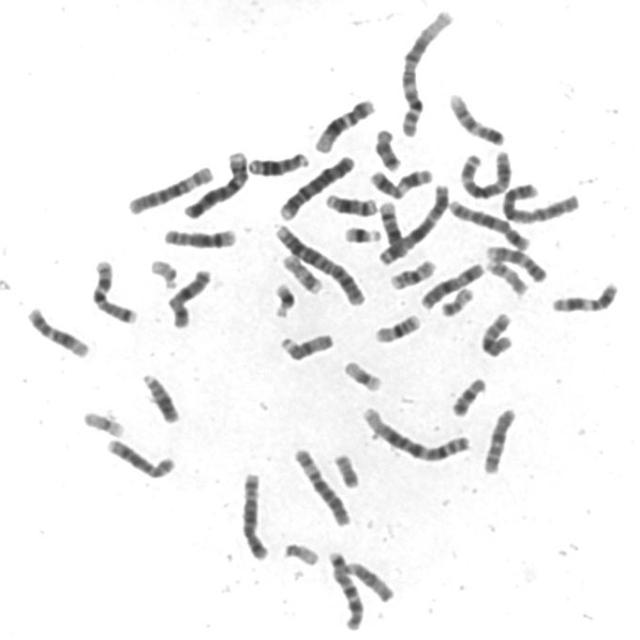A1: (394, 4, 456, 140), (357, 401, 473, 464)
A2: (269, 218, 368, 307), (496, 178, 582, 225)
A3: (374, 178, 452, 266), (454, 144, 514, 200)
B4: (274, 148, 357, 222), (179, 145, 250, 220)
B5: (443, 193, 532, 251), (234, 466, 271, 562)
C10: (477, 402, 518, 476), (475, 308, 515, 359)
C11: (546, 276, 620, 314), (364, 162, 434, 200)
C12: (309, 92, 378, 154), (21, 300, 91, 359)
C6: (288, 442, 352, 528), (123, 160, 215, 216)
C7: (86, 253, 140, 326), (322, 546, 366, 631)
C8: (100, 432, 177, 480), (158, 222, 239, 250)
C9: (443, 87, 507, 147), (481, 240, 549, 284)
D13: (136, 366, 182, 424), (243, 145, 310, 177)
D14: (375, 196, 411, 263), (320, 188, 380, 217)
D15: (341, 556, 396, 604), (274, 327, 336, 363)
E16: (385, 254, 438, 291), (369, 308, 423, 344)
E17: (276, 248, 324, 296), (481, 253, 529, 297)
E18: (446, 372, 488, 418), (369, 123, 403, 173)
F19: (338, 354, 385, 394), (77, 404, 126, 438)
F20: (436, 282, 475, 318), (329, 447, 362, 489)
G21: (268, 277, 297, 319), (339, 220, 383, 245)
G22: (144, 253, 180, 290), (278, 537, 322, 567)
X: (415, 258, 486, 311), (161, 263, 214, 330)
